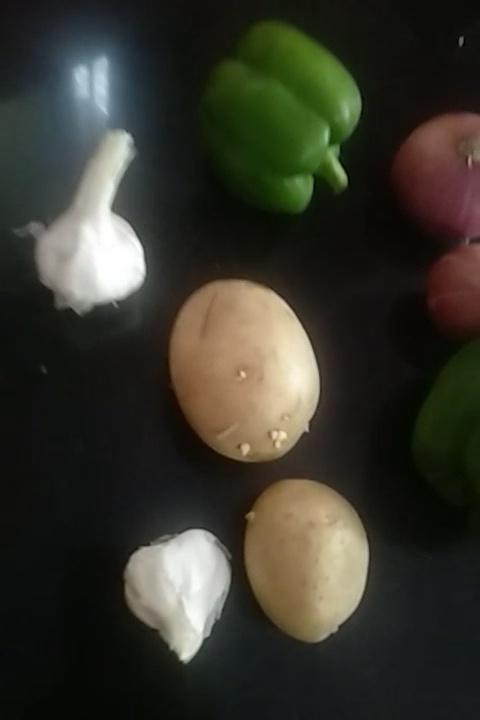capsicum: (200, 32, 363, 207), (420, 340, 480, 517)
garlic: (30, 122, 145, 317), (132, 514, 227, 664)
onion: (391, 103, 480, 245), (423, 225, 480, 338)
potato: (172, 277, 321, 461), (251, 470, 361, 643)
